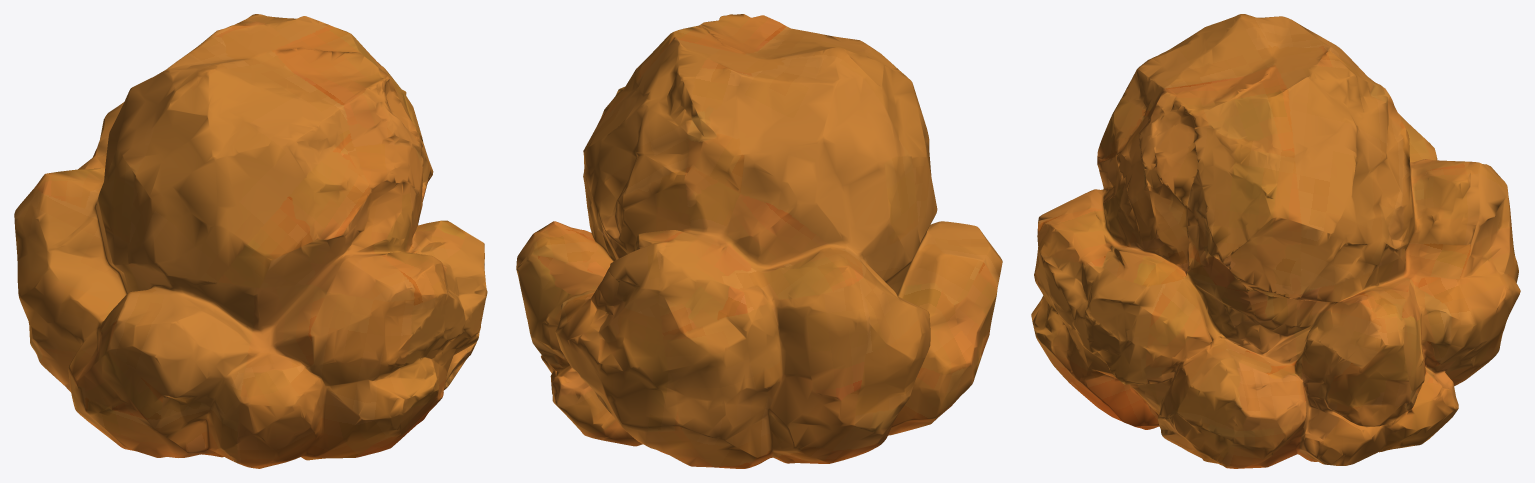
The model's file is prop_gem.glb.
3 views of the same model, side by side, from view 1: azimuth 30°, elevation 25°; view 2: azimuth 150°, elevation 25°; view 3: azimuth 270°, elevation 25° (orthographic). The views are drawn at different scales.
Parts seen in each view (by area): view 1: tripo_node_6aa71893-477e-48b9-aae4-18d0bff3fe68; view 2: tripo_node_6aa71893-477e-48b9-aae4-18d0bff3fe68; view 3: tripo_node_6aa71893-477e-48b9-aae4-18d0bff3fe68.
Boxes of the visible parts, x1,y1,x2,y2 form: tripo_node_6aa71893-477e-48b9-aae4-18d0bff3fe68: (14, 14, 487, 468); tripo_node_6aa71893-477e-48b9-aae4-18d0bff3fe68: (516, 14, 1002, 468); tripo_node_6aa71893-477e-48b9-aae4-18d0bff3fe68: (1031, 14, 1520, 468).
Bounding box in the file's own units: 0.8921 × 0.787 × 0.9816.
Materials: 1 (1 with a texture image).
